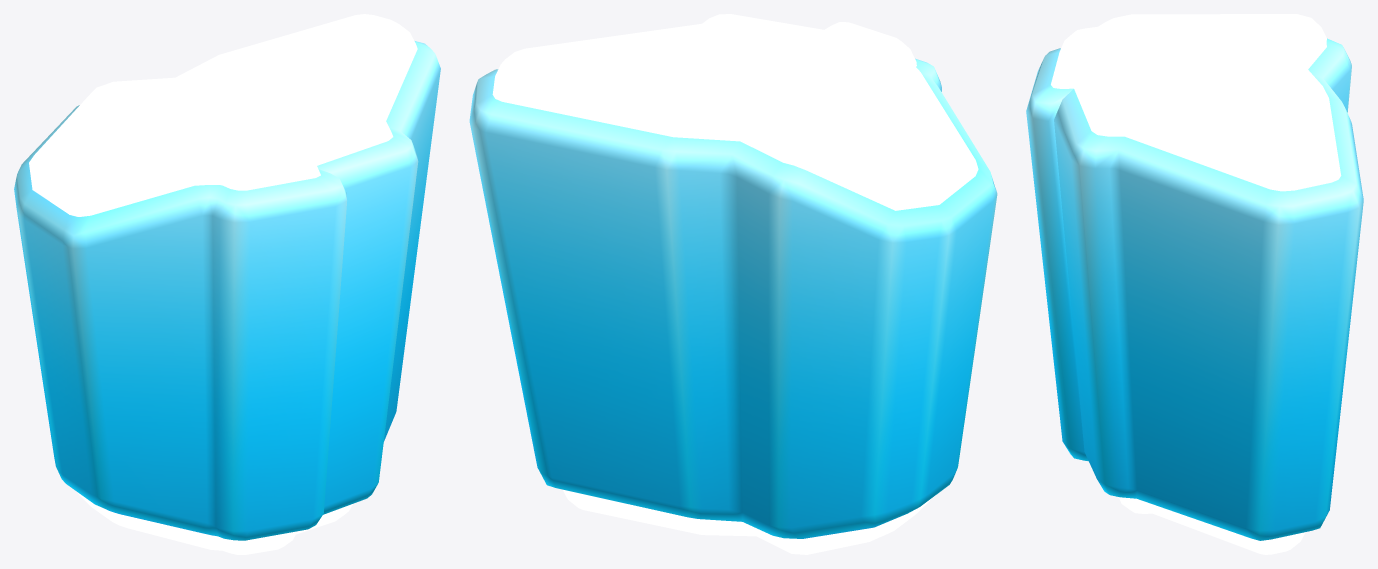
The model's file is ice_snow_003.glb.
3 renders of one model, left to right at view 1: azimuth 30°, elevation 25°; view 2: azimuth 150°, elevation 25°; view 3: azimuth 270°, elevation 25°, orthographic. The views are drawn at different scales.
Parts seen in each view (by area): view 1: ice_snow_003; view 2: ice_snow_003; view 3: ice_snow_003.
Boxes of the visible parts, x1=… form: ice_snow_003: x1=14, y1=14, x2=440, y2=554; ice_snow_003: x1=469, y1=14, x2=997, y2=554; ice_snow_003: x1=1026, y1=14, x2=1363, y2=554.
Bounding box in the file's own units: 3.8 × 3.52 × 2.51.
Materials: 2 (2 with a texture image).
